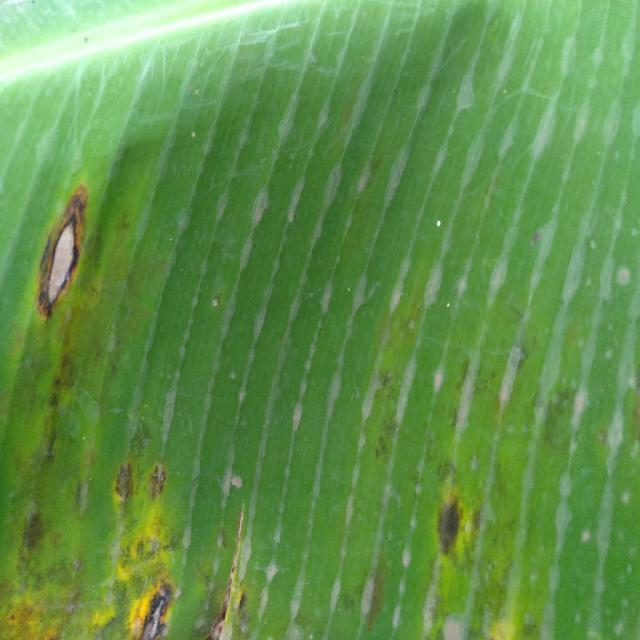Early_rust: (0, 132, 257, 640), (345, 385, 542, 640)
